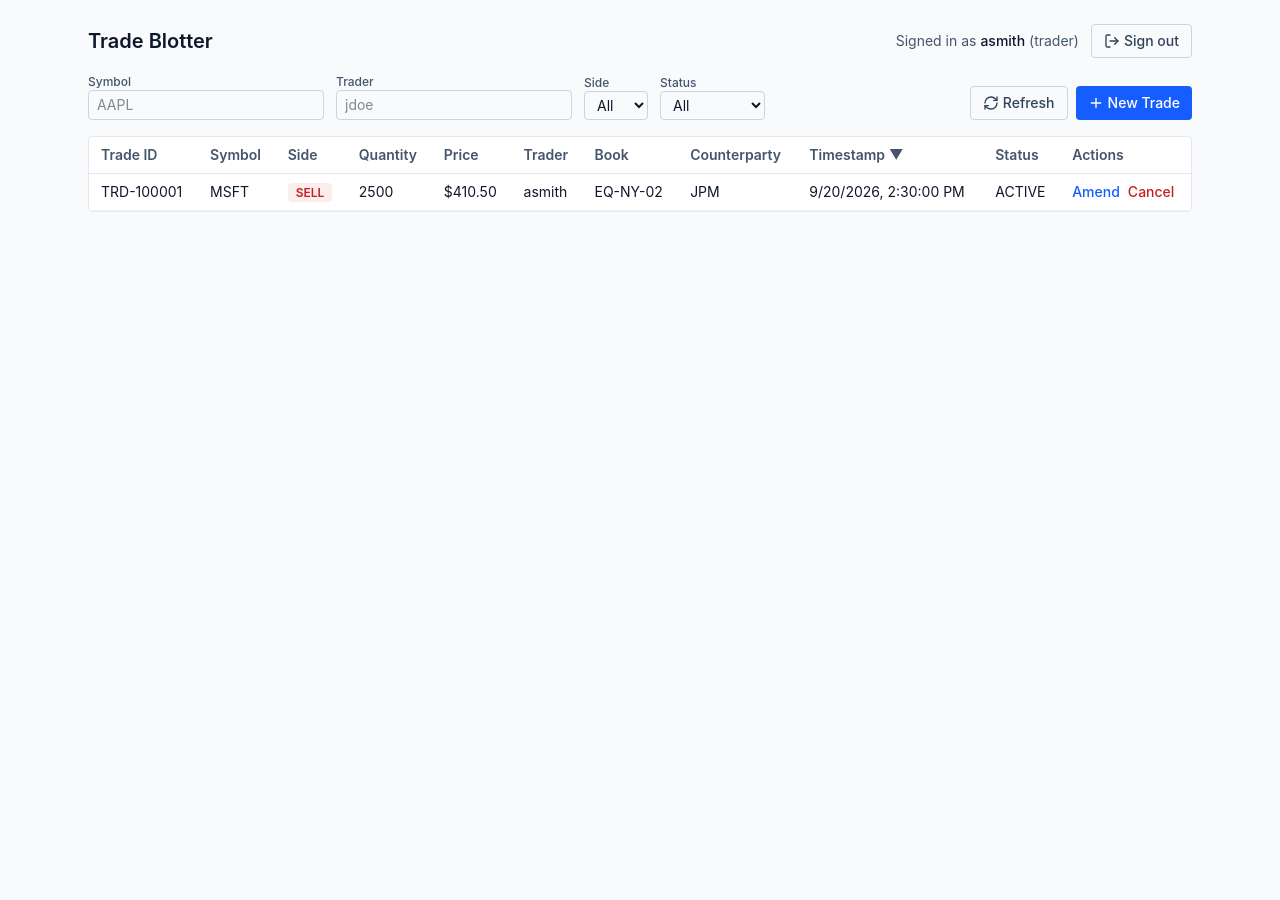
Test: TradeBlotterPage create/amend wiring › toasts a successful amend and closes the modal
The image size is (1280, 900).
Click the button "Amend".
click(1096, 192)  # box x1=1072 y1=182 x2=1120 y2=202
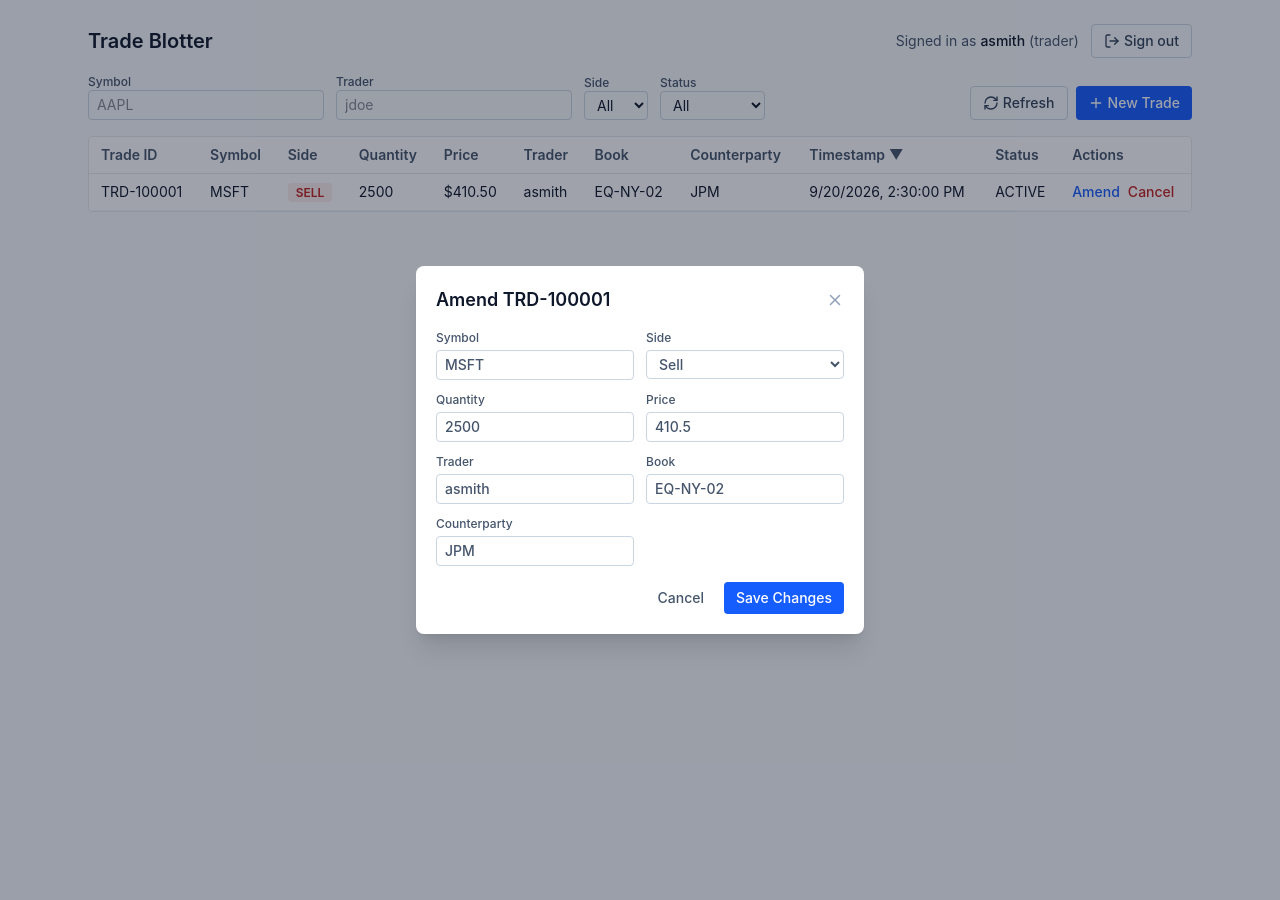
Replace the text in the number field labelled "Price" with "411.25" at (745, 427), box x1=646 y1=412 x2=844 y2=442
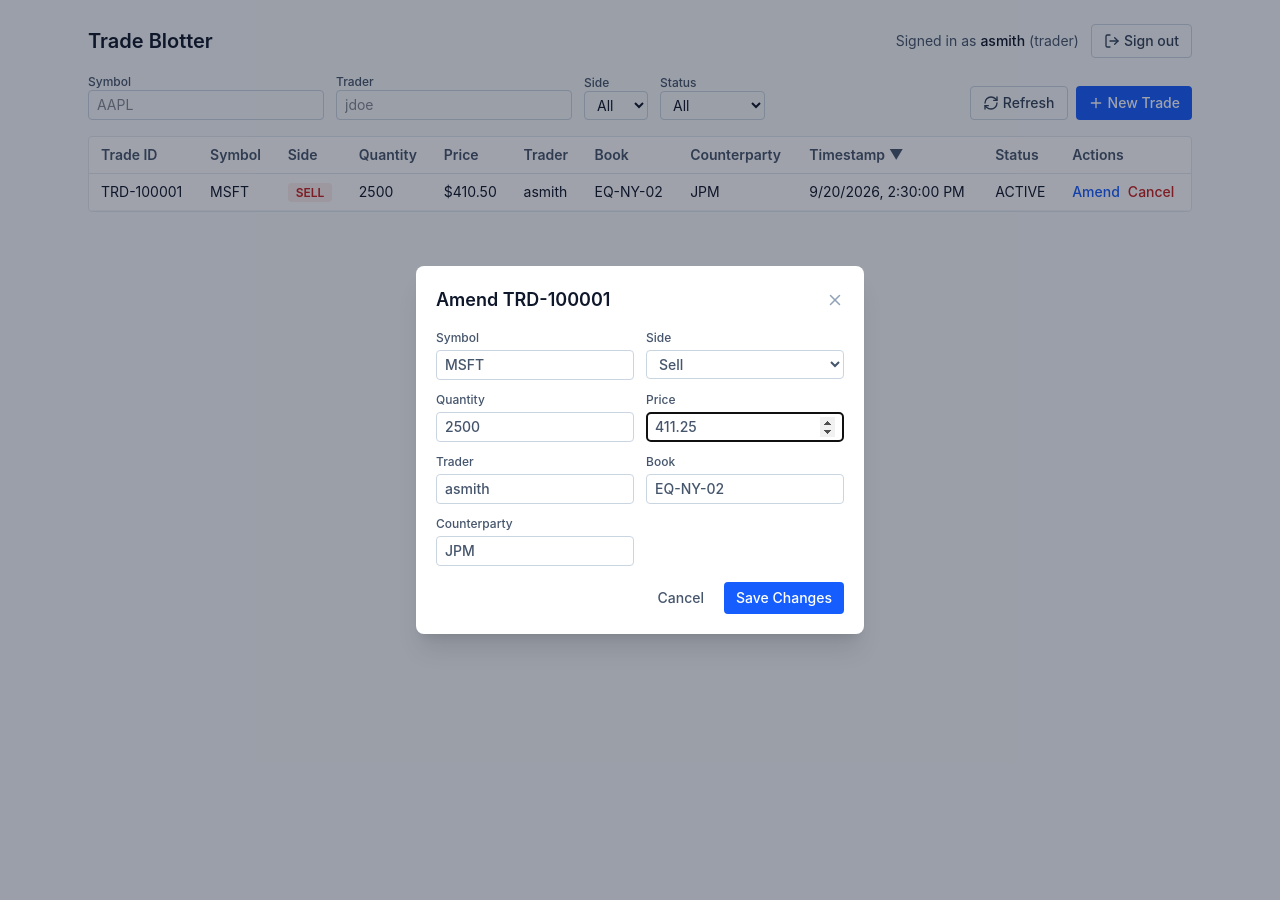
Click the button "Save Changes".
click(784, 598)  # box x1=724 y1=582 x2=844 y2=614
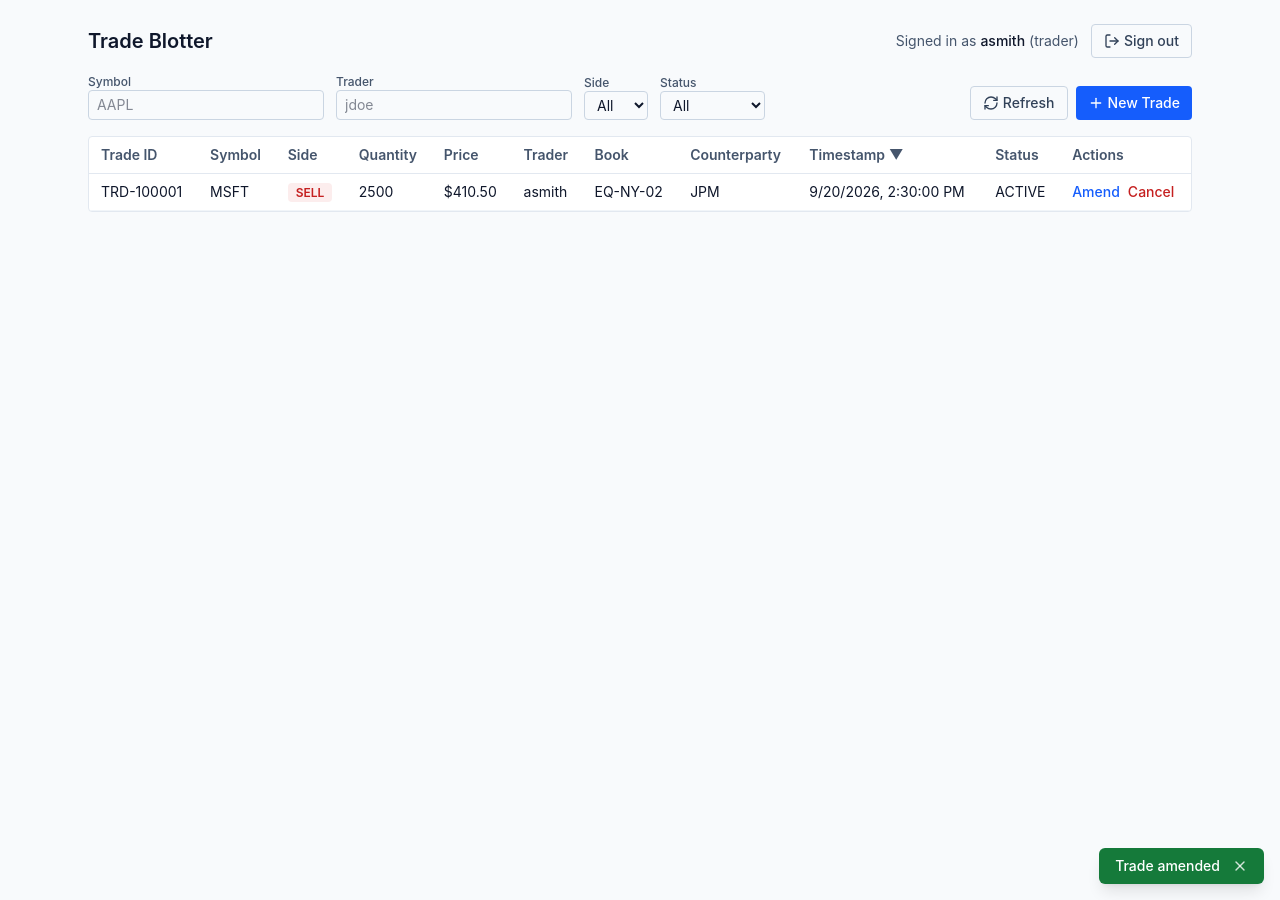
Check: the text "Trade amended" is shown, box x1=1115 y1=856 x2=1220 y2=876
Check: the dialog is gone
